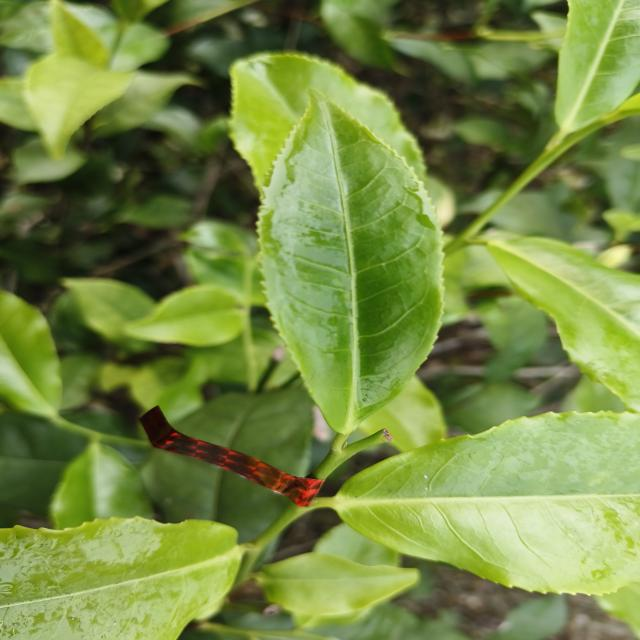Leaf: (258, 90, 443, 435), (332, 412, 640, 595), (0, 517, 242, 640), (230, 52, 426, 187), (488, 238, 640, 412), (142, 448, 291, 542), (166, 386, 314, 477), (256, 552, 419, 624), (24, 53, 134, 158), (555, 0, 640, 135), (50, 441, 153, 529), (0, 290, 62, 418), (125, 285, 244, 346), (63, 278, 155, 352), (320, 0, 397, 69), (51, 0, 109, 67), (486, 595, 567, 640)
